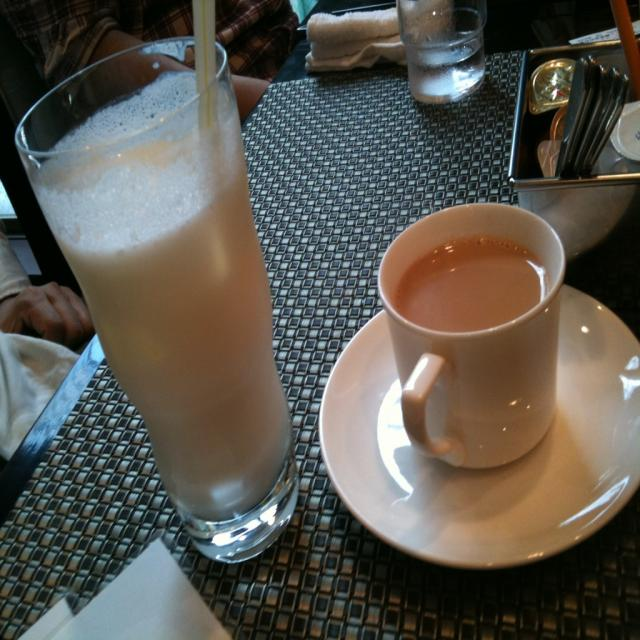Coffee: (398, 232, 552, 334)
Tea: (396, 239, 552, 328)
